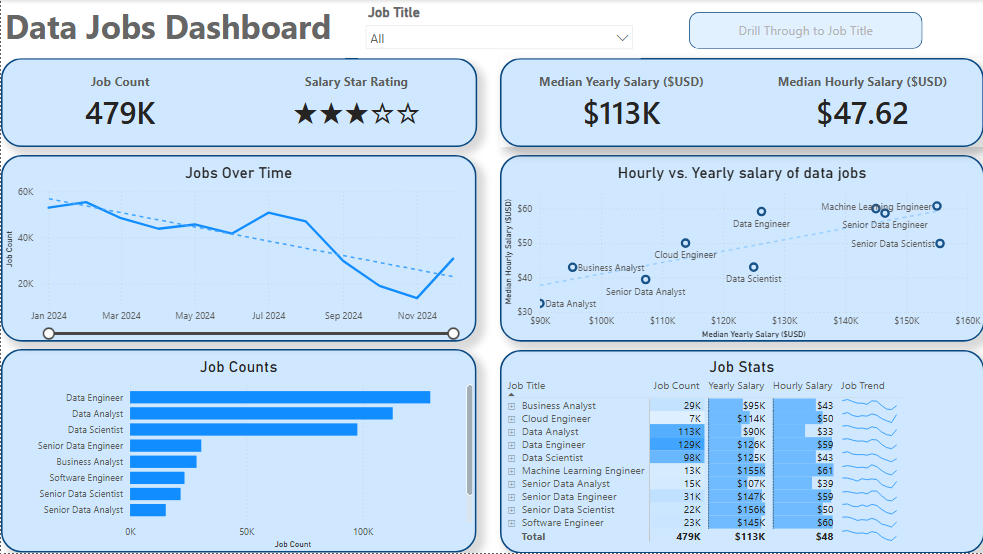

The dashboard page shown, as its layout file describes it:
{"tool":"powerbi","page":{"name":"Data Jobs Dashboard","canvas":[1280,720],"ordinal":0},"visuals":[{"type":"group","id":"g1","title":"Background","box":[0,75.5,1280,644.3],"z":0},{"type":"shape","box":[0,75.5,619.7,115.9],"z":0,"group":"g1"},{"type":"textbox","box":[0,0,447.9,75.5],"z":1000},{"type":"shape","box":[649.7,75.5,630.2,115.9],"z":1000,"group":"g1"},{"type":"slicer","fields":{"Values":["job_postings_flat.job_title_short"]},"box":[464.8,0,368.5,75.5],"z":2000},{"type":"shape","box":[0,201.6,619.3,243.1],"z":2000,"group":"g1"},{"type":"cardVisual","fields":{"Data":["CountNonNull(job_postings_flat.job_title_short)","job_postings_flat.Salary Star Rating"]},"box":[0,75.5,618.4,115.9],"z":3000},{"type":"shape","box":[0,454.8,619.3,264.6],"z":3000,"group":"g1"},{"type":"cardVisual","fields":{"Data":["Median(job_postings_flat.salary_year_avg)","Median(job_postings_flat.salary_hour_avg)"]},"box":[649.7,75.5,630.2,115.9],"z":4000},{"type":"shape","box":[649.3,201.6,630.7,243.1],"z":4000,"group":"g1"},{"type":"lineChart","title":"Jobs Over Time","fields":{"Y":["CountNonNull(job_postings_flat.job_title_short)"],"Category":["job_postings_flat.job_posted_date.Variation.Date Hierarchy.Year","job_postings_flat.job_posted_date.Variation.Date Hierarchy.Quarter","job_postings_flat.job_posted_date.Variation.Date Hierarchy.Month","job_postings_flat.job_posted_date.Variation.Date Hierarchy.Day"]},"box":[0,212.2,619.7,233.1],"z":5000},{"type":"shape","box":[649.3,455.2,630.7,264.6],"z":5000,"group":"g1"},{"type":"scatterChart","title":"Hourly vs. Yearly salary of data jobs","fields":{"Y":["Median(job_postings_flat.salary_hour_avg)"],"X":["Median(job_postings_flat.salary_year_avg)"],"Series":["job_postings_flat.job_title_short"]},"box":[649.3,211.7,630.7,233.1],"z":6000},{"type":"barChart","title":"Job Counts","fields":{"Category":["job_postings_flat.job_title_short"],"Y":["CountNonNull(job_postings_flat.job_title_short)"]},"box":[0,464.8,619.3,254.6],"z":7000},{"type":"pivotTable","title":"Job Stats","fields":{"Rows":["job_postings_flat.job_title_short","job_postings_flat.job_posted_date.Variation.Date Hierarchy.Quarter"],"Values":["CountNonNull(job_postings_flat.job_title_short)","Median(job_postings_flat.salary_year_avg)","Median(job_postings_flat.salary_hour_avg)","SparklineData(CountNonNull(job_postings_flat.job_title_short)_[job_postings_flat.job_posted_date.Variation.Date Hierarch"]},"box":[649.7,464.8,630.2,255.2],"z":8000},{"type":"actionButton","box":[896,16,304,48],"z":9000}]}

Visuals, with their boxes in screenshot pixels (x1, y1, x2, y2), scaled from the page's 1280x720 canvas onto the 983x554 screenshot:
"Background" group: 0,58,982,553
shape: 0,58,476,147
textbox: 0,0,344,58
shape: 499,58,982,147
slicer - job_postings_flat.job_title_short: 357,0,640,58
shape: 0,155,476,342
cardVisual - CountNonNull(job_postings_flat.job_title_short) x job_postings_flat.Salary Star Rating: 0,58,475,147
shape: 0,350,476,553
cardVisual - Median(job_postings_flat.salary_year_avg) x Median(job_postings_flat.salary_hour_avg): 499,58,982,147
shape: 499,155,982,342
"Jobs Over Time" lineChart: 0,163,476,343
shape: 499,350,982,553
"Hourly vs. Yearly salary of data jobs" scatterChart: 499,163,982,342
"Job Counts" barChart: 0,358,476,553
"Job Stats" pivotTable: 499,358,982,553
actionButton: 688,12,922,49
